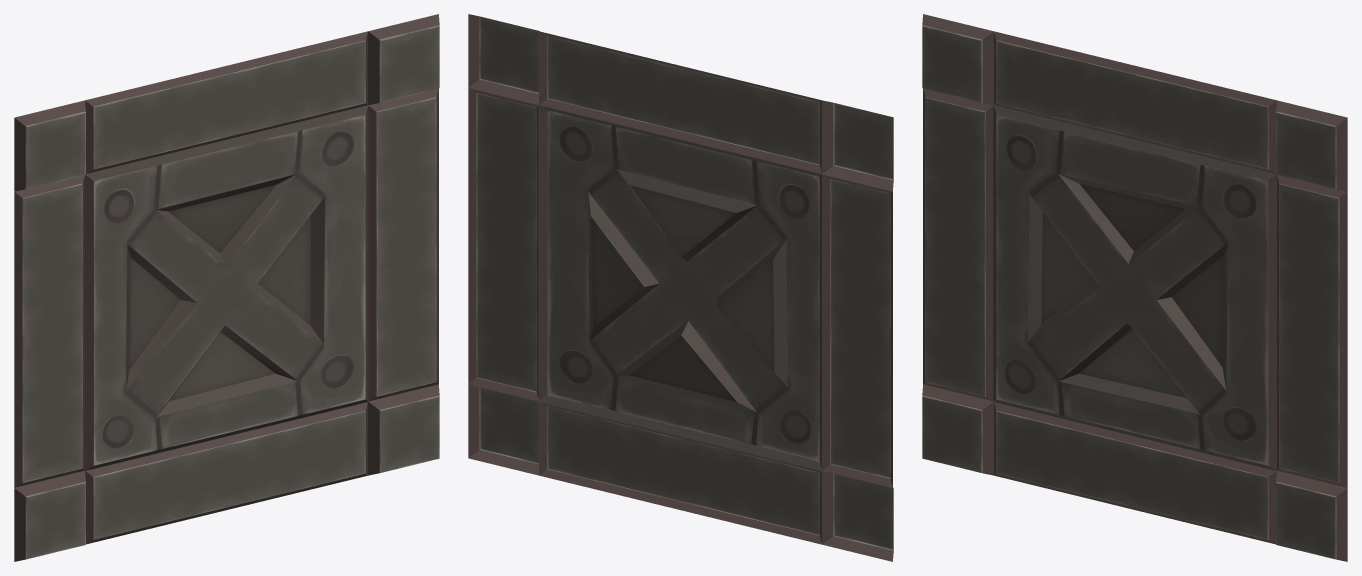
Rendered from inactive_3x3.glb.
The picture shows the model from 3 angles, left to right: view 1: azimuth 30°, elevation 25°; view 2: azimuth 150°, elevation 25°; view 3: azimuth 330°, elevation 25°; orthographic projection.
Parts seen in each view (by area): view 1: inactive.inactive_3x3-Mesh[1], inactive.inactive_3x3-Mesh[0]; view 2: inactive.inactive_3x3-Mesh[1], inactive.inactive_3x3-Mesh[0]; view 3: inactive.inactive_3x3-Mesh[1], inactive.inactive_3x3-Mesh[0].
Boxes of the visible parts, x1,y1,x2,y2 form: inactive.inactive_3x3-Mesh[1]: [14, 14, 439, 561]; inactive.inactive_3x3-Mesh[0]: [85, 105, 368, 470]; inactive.inactive_3x3-Mesh[1]: [468, 14, 893, 561]; inactive.inactive_3x3-Mesh[0]: [538, 104, 822, 471]; inactive.inactive_3x3-Mesh[1]: [922, 14, 1347, 561]; inactive.inactive_3x3-Mesh[0]: [993, 105, 1276, 470].
Bounding box in the file's own units: 3 × 3 × 0.1349.
Materials: 2 (2 with a texture image).
